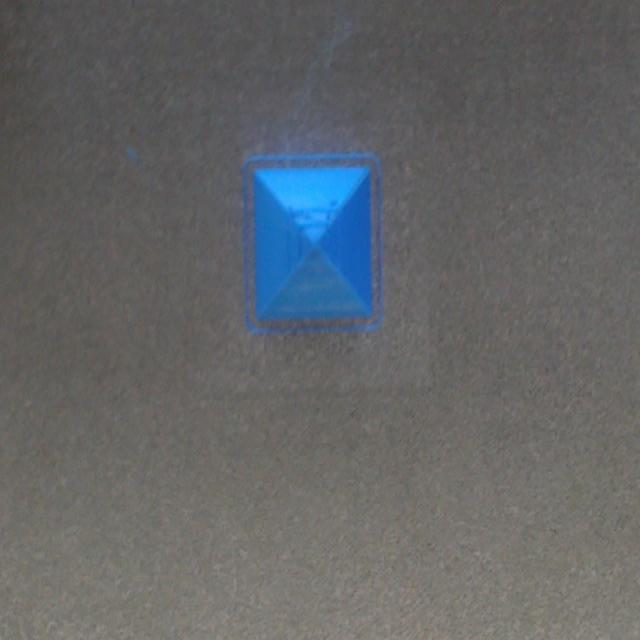mistake: (290, 200, 340, 251)
